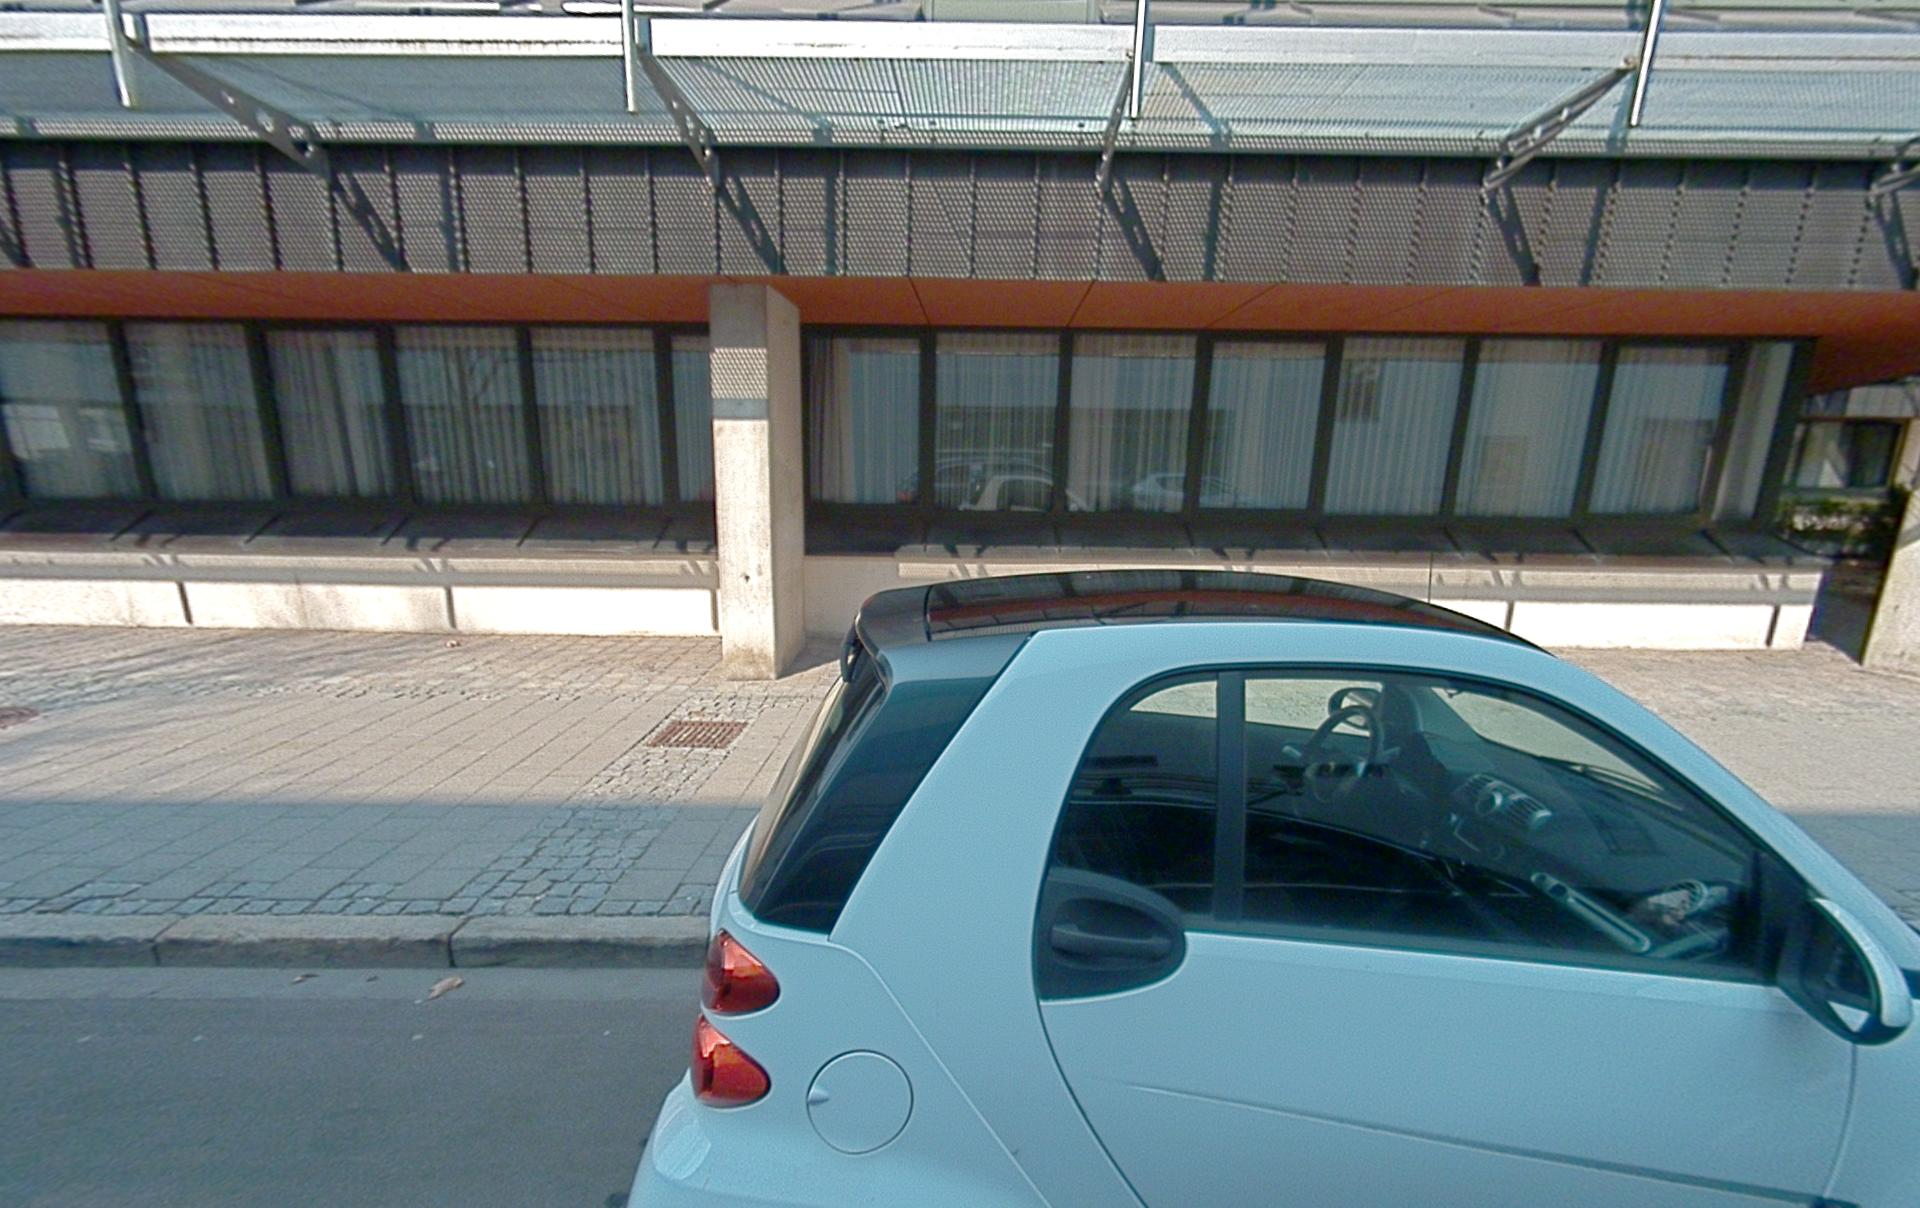car: (626, 566, 1920, 1207), (897, 452, 1088, 514), (1126, 470, 1248, 515)
